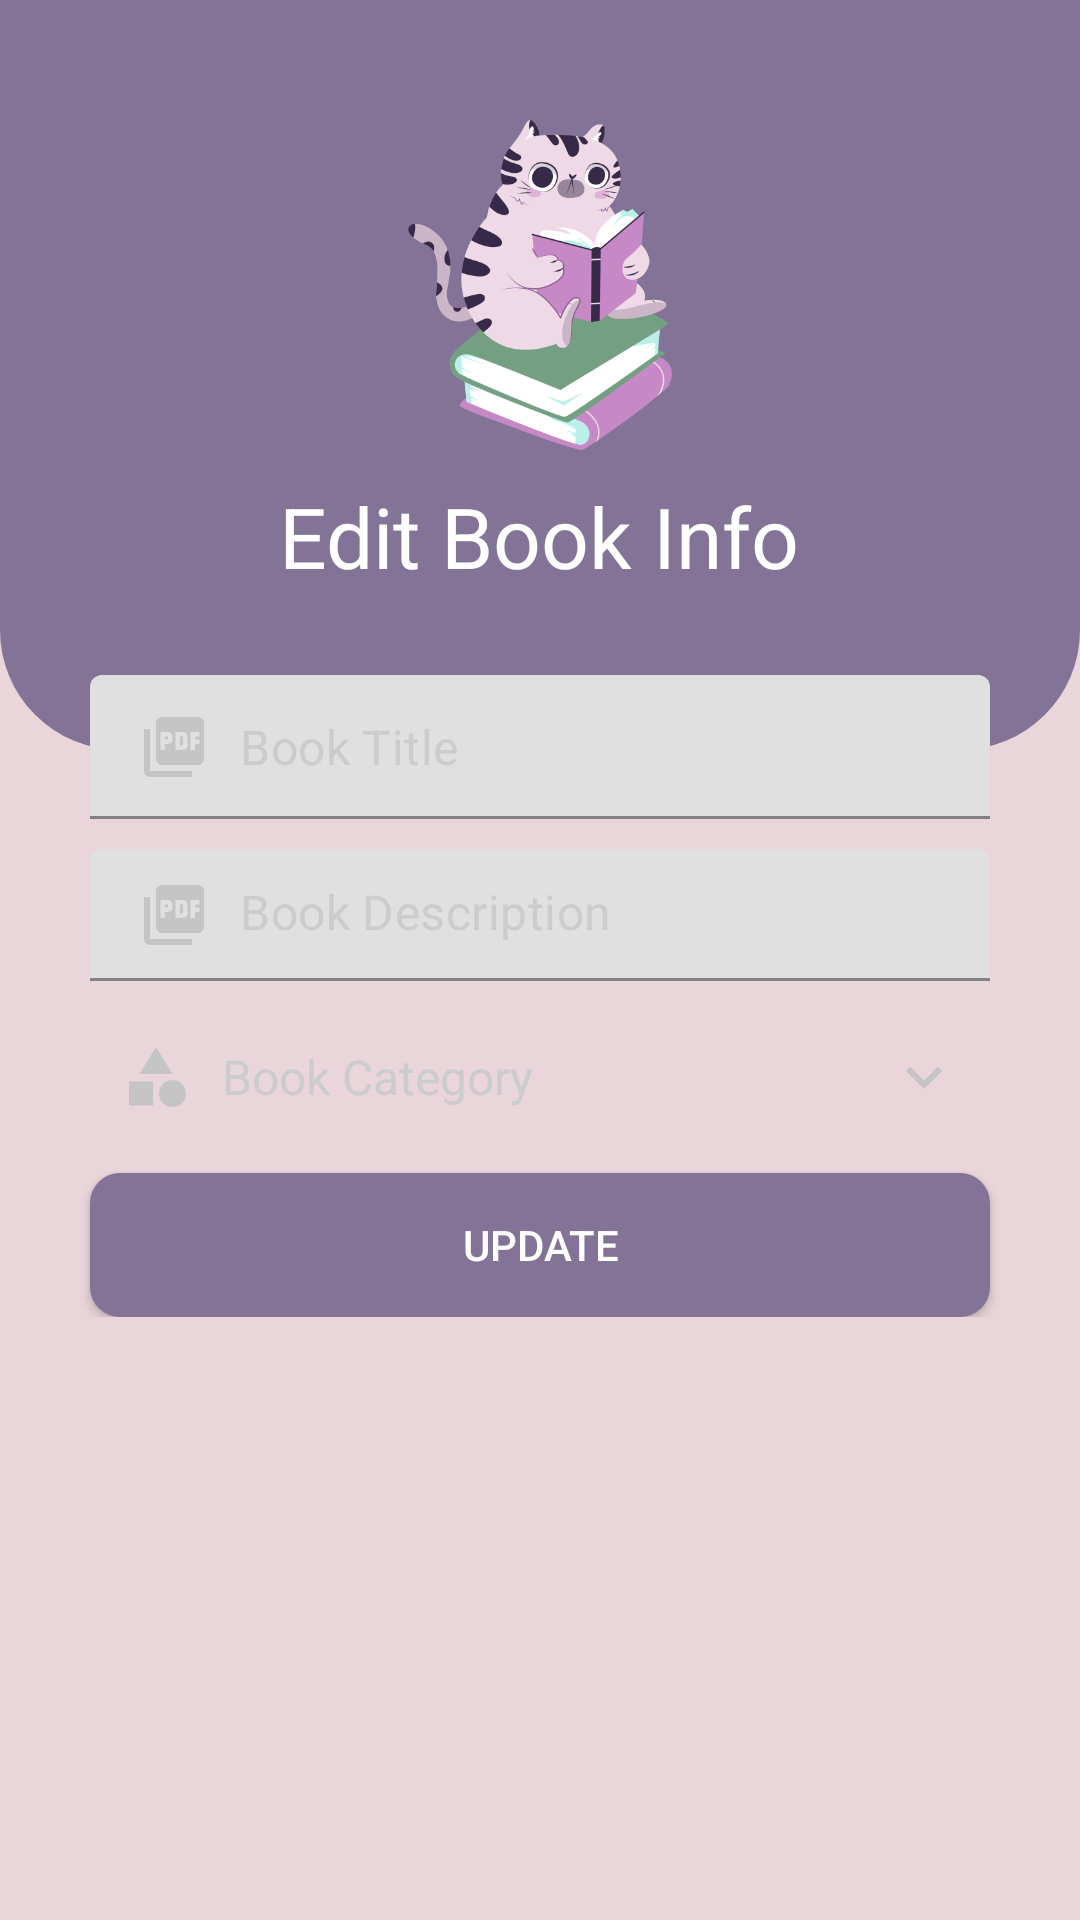

Icons on this 1080 × 1920 Android screen, each with its box as (x1=x1, y1=y1, x2=x2, y2=y2):
books: (x1=408, y1=120, x2=672, y2=450)
